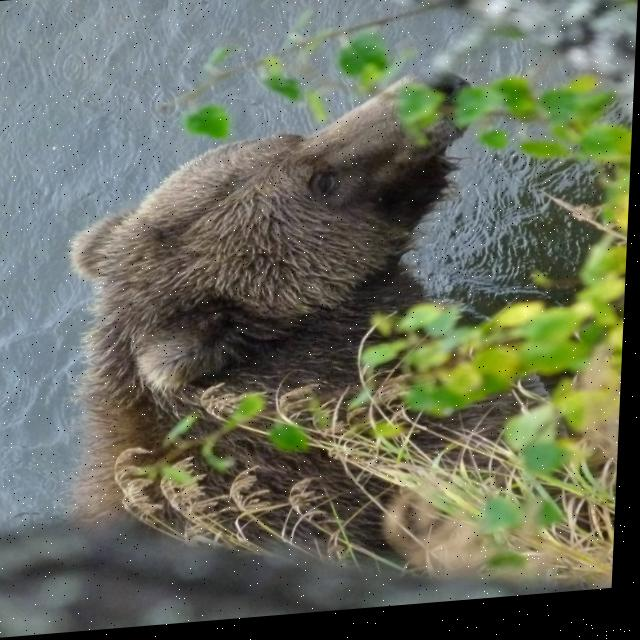bear face: (64, 69, 481, 525)
